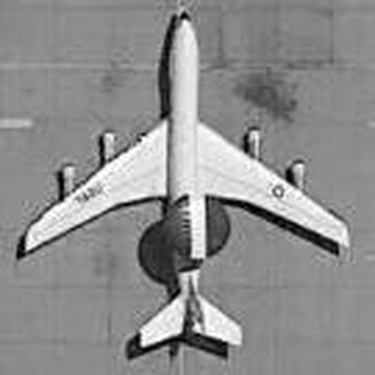airplane: (4, 7, 354, 356)
